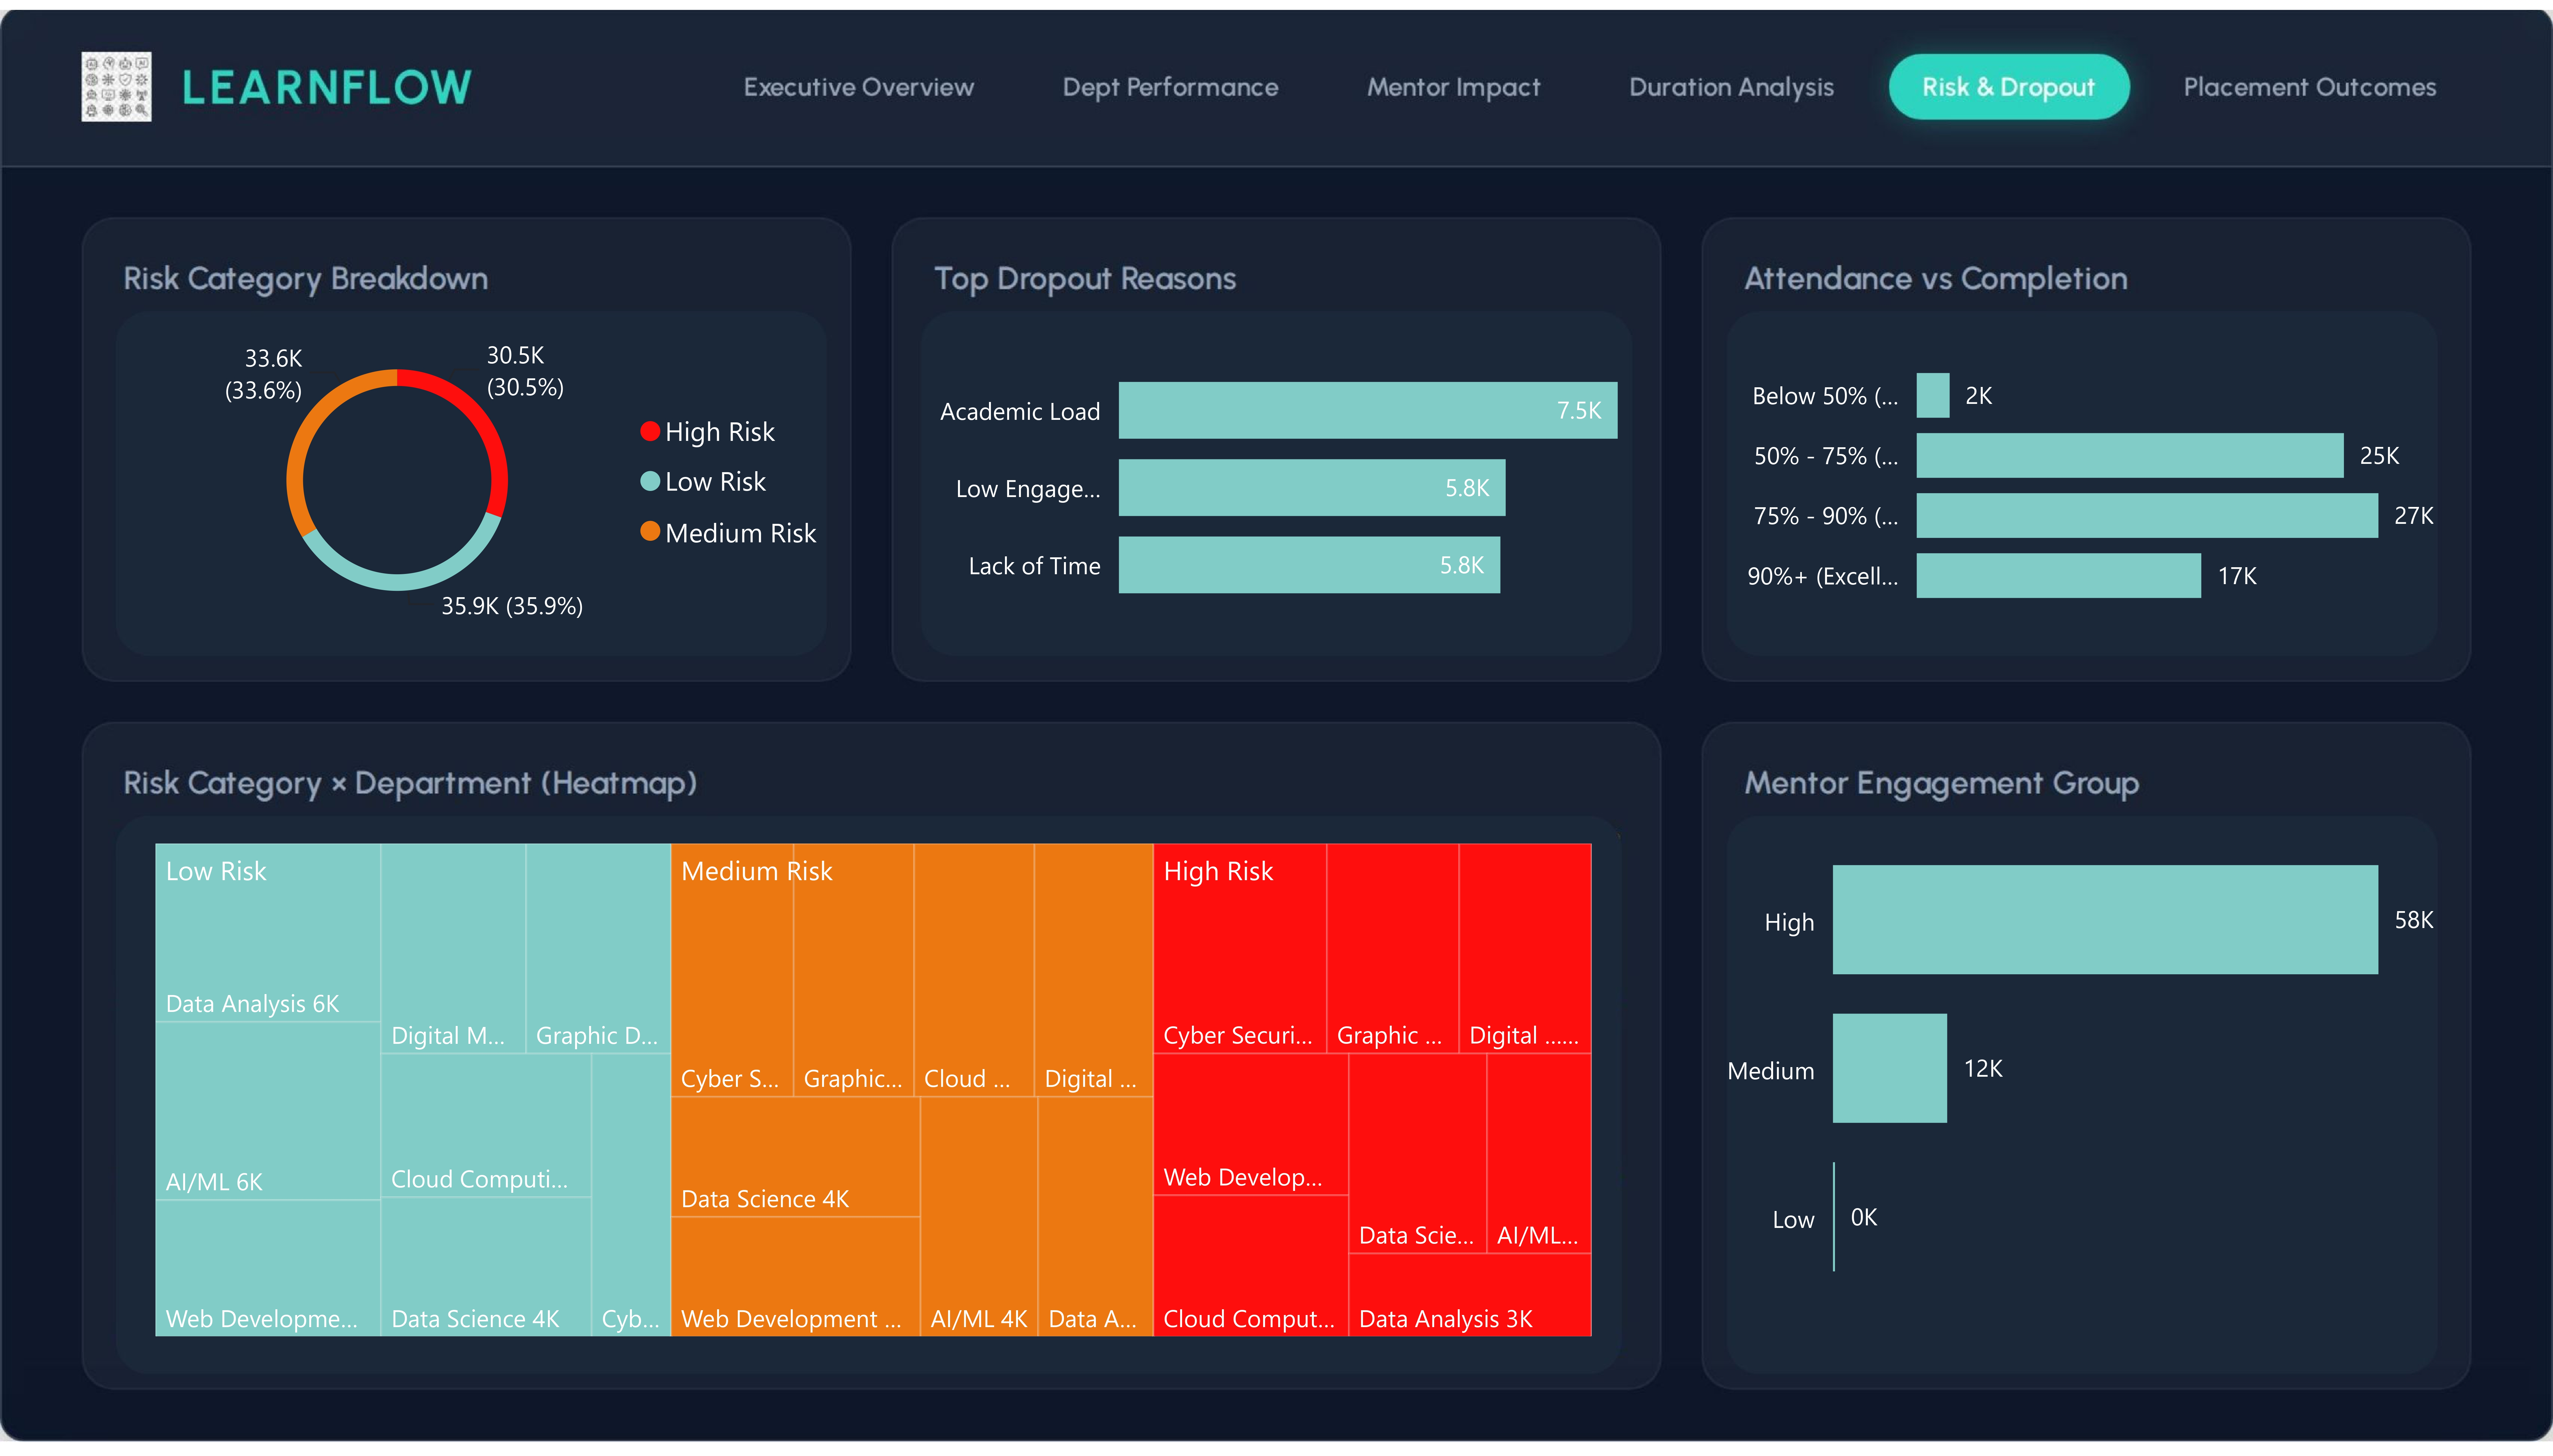

This screenshot's page, from the dashboard's own definition file:
{"tool":"powerbi","page":{"name":"Risk & Dropout","canvas":[1280,720],"ordinal":4},"visuals":[{"type":"treemap","fields":{"Group":["internship_data.Risk_Category"],"Details":["internship_data.Department"],"Values":["internship_data.Total Interns"]},"box":[72.7,413.4,729.8,257.4],"z":0},{"type":"donutChart","fields":{"Series":["internship_data.Risk_Category"],"Y":["internship_data.Total Interns"]},"box":[72.7,157.5,351.3,157.5],"z":1000},{"type":"barChart","fields":{"Category":["internship_data.Dropout_Reason"],"Y":["internship_data.Dropped"]},"box":[453,158.2,378.2,156.8],"z":2000},{"type":"barChart","fields":{"Category":["internship_data.Attendance Category"],"Y":["internship_data.Completed"]},"box":[855.5,157.5,369.5,156],"z":3000},{"type":"barChart","fields":{"Category":["internship_data.Mentor_Engagement_Group"],"Y":["internship_data.Completed"]},"box":[855.5,386.1,369.5,284.7],"z":4000}]}

Visuals, with their boxes on the page's 1280x720 design canvas (x1, y1, x2, y2). These are canvas units, not pixel positions in the 2553x1456 screenshot, which may show the page scaled, cropped or inside an application window:
treemap - internship_data.Risk_Category x internship_data.Department: 73, 413, 802, 671
donutChart - internship_data.Risk_Category x internship_data.Total Interns: 73, 158, 424, 315
barChart - internship_data.Dropout_Reason x internship_data.Dropped: 453, 158, 831, 315
barChart - internship_data.Attendance Category x internship_data.Completed: 856, 158, 1225, 314
barChart - internship_data.Mentor_Engagement_Group x internship_data.Completed: 856, 386, 1225, 671
